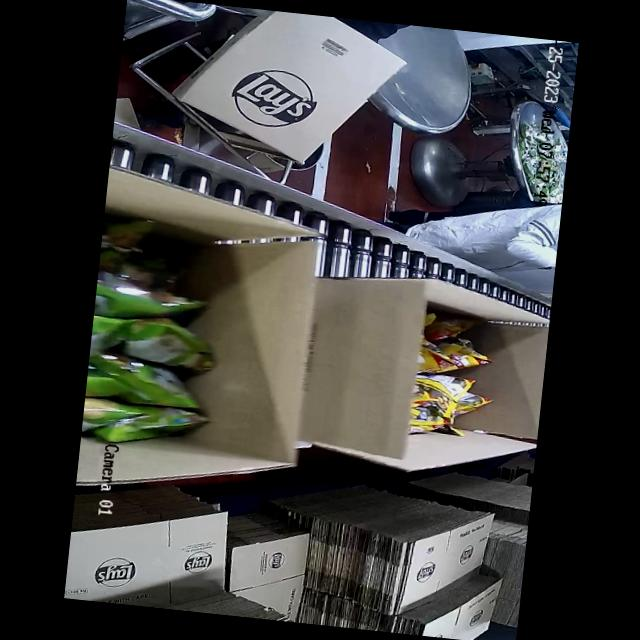salted: (402, 308, 493, 478)
yogurt: (72, 209, 236, 519)
